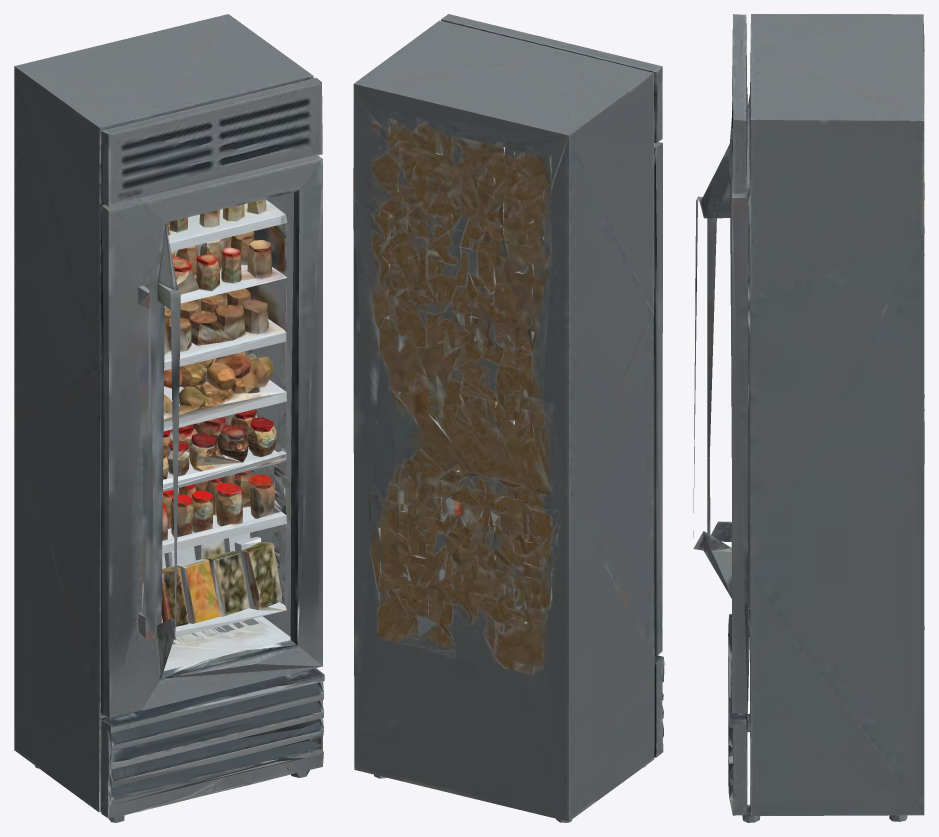
The model's file is srvFridge.glb.
3 renders of one model, left to right at view 1: azimuth 30°, elevation 25°; view 2: azimuth 150°, elevation 25°; view 3: azimuth 270°, elevation 25°, orthographic.
Size of the model in its own units: 0.6151 by 1.9 by 0.5634.
Materials: 1 (1 with a texture image).
